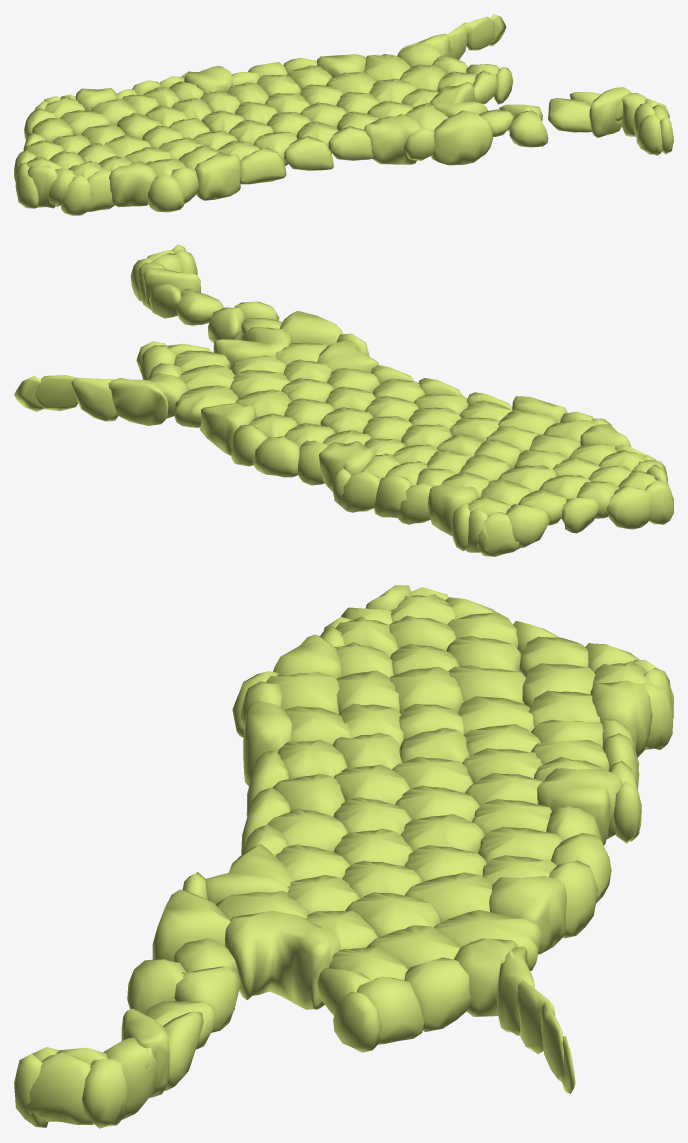
File: Islands4.006_fog.fbx
3 views of the same model, one above another, from view 1: azimuth 30°, elevation 25°; view 2: azimuth 150°, elevation 25°; view 3: azimuth 270°, elevation 25° (orthographic). The views are drawn at different scales.
Visible parts, largest first — view 1: Island4.006_fog_cell.058, Island4.006_fog_cell.063, Island4.006_fog_cell.026, Island4.006_fog_cell.035, Island4.006_fog_cell.056, Island4.006_fog_cell.010, Island4.006_fog_cell.096, Island4.006_fog_cell.033, Island4.006_fog_cell, Island4.006_fog_cell.055, Island4.006_fog_cell.017, Island4.006_fog_cell.024 (+75 smaller); view 2: Island4.006_fog_cell.103, Island4.006_fog_cell.055, Island4.006_fog_cell.084, Island4.006_fog_cell.025, Island4.006_fog_cell.064, Island4.006_fog_cell.031, Island4.006_fog_cell.036, Island4.006_fog_cell.062, Island4.006_fog_cell.086, Island4.006_fog_cell.058, Island4.006_fog_cell.065, Island4.006_fog_cell.030 (+70 smaller); view 3: Island4.006_fog_cell.055, Island4.006_fog_cell.084, Island4.006_fog_cell.064, Island4.006_fog_cell.077, Island4.006_fog_cell.074, Island4.006_fog_cell.058, Island4.006_fog_cell.063, Island4.006_fog_cell.031, Island4.006_fog_cell.070, Island4.006_fog_cell.016, Island4.006_fog_cell.062, Island4.006_fog_cell.028 (+74 smaller).
Boxes of the visible parts, x1,y1,x2,y2 form: Island4.006_fog_cell.058: [431, 110, 493, 165]; Island4.006_fog_cell.063: [364, 114, 422, 164]; Island4.006_fog_cell.026: [195, 152, 241, 200]; Island4.006_fog_cell.035: [109, 160, 156, 207]; Island4.006_fog_cell.056: [284, 136, 333, 170]; Island4.006_fog_cell.010: [240, 147, 286, 184]; Island4.006_fog_cell.096: [589, 87, 630, 137]; Island4.006_fog_cell.033: [548, 98, 591, 132]; Island4.006_fog_cell: [328, 125, 373, 160]; Island4.006_fog_cell.055: [430, 82, 488, 117]; Island4.006_fog_cell.017: [509, 110, 548, 147]; Island4.006_fog_cell.024: [147, 173, 184, 212]; Island4.006_fog_cell.103: [108, 378, 168, 425]; Island4.006_fog_cell.055: [213, 327, 291, 369]; Island4.006_fog_cell.084: [199, 403, 256, 455]; Island4.006_fog_cell.025: [253, 436, 300, 477]; Island4.006_fog_cell.064: [319, 441, 375, 491]; Island4.006_fog_cell.031: [174, 385, 238, 427]; Island4.006_fog_cell.036: [607, 485, 650, 529]; Island4.006_fog_cell.062: [427, 484, 478, 536]; Island4.006_fog_cell.086: [71, 378, 118, 421]; Island4.006_fog_cell.058: [279, 311, 342, 345]; Island4.006_fog_cell.065: [477, 512, 519, 556]; Island4.006_fog_cell.030: [505, 503, 549, 548]; Island4.006_fog_cell.055: [225, 910, 340, 1009]; Island4.006_fog_cell.084: [489, 876, 566, 954]; Island4.006_fog_cell.064: [537, 768, 621, 845]; Island4.006_fog_cell.077: [27, 1052, 93, 1124]; Island4.006_fog_cell.074: [404, 957, 471, 1031]; Island4.006_fog_cell.058: [152, 889, 230, 961]; Island4.006_fog_cell.063: [204, 844, 294, 904]; Island4.006_fog_cell.031: [434, 910, 541, 971]; Island4.006_fog_cell.070: [357, 976, 424, 1044]; Island4.006_fog_cell.016: [454, 938, 518, 1016]; Island4.006_fog_cell.062: [590, 680, 652, 757]; Island4.006_fog_cell.028: [405, 872, 492, 922].
Bounding box in the file's own units: 115 × 8.99 × 65.13.
